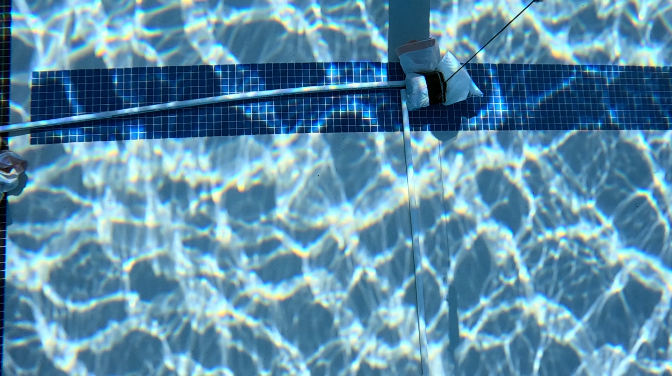sandbag: (397, 38, 478, 111)
